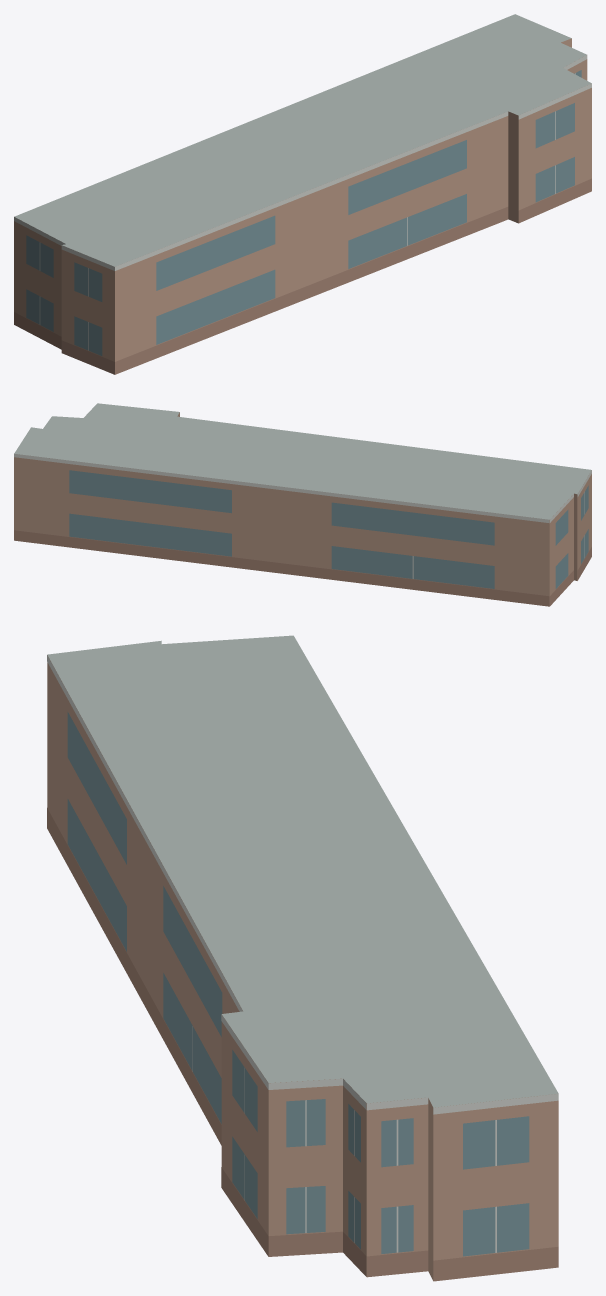
Rendered from survey-upis-32668408.glb.
3 views of the same model, one above another, from view 1: azimuth 30°, elevation 25°; view 2: azimuth 150°, elevation 25°; view 3: azimuth 270°, elevation 25° (orthographic). The views are drawn at different scales.
Visible parts, largest first — view 1: survey-upis-32668408.tmp; view 2: survey-upis-32668408.tmp; view 3: survey-upis-32668408.tmp.
Boxes of the visible parts, x1=… form: survey-upis-32668408.tmp: x1=14, y1=14, x2=591, y2=374; survey-upis-32668408.tmp: x1=14, y1=403, x2=591, y2=606; survey-upis-32668408.tmp: x1=47, y1=635, x2=558, y2=1281.
Bounding box in the file's own units: 35.55 × 6.1 × 16.29.
